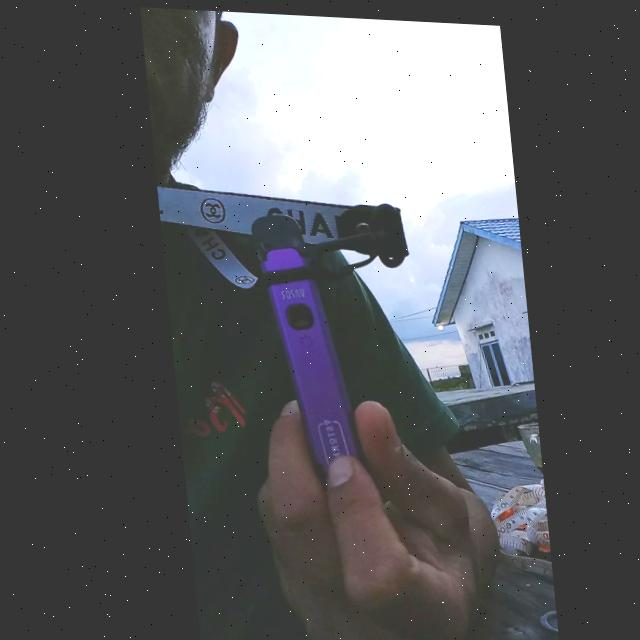vape: (247, 211, 363, 491)
